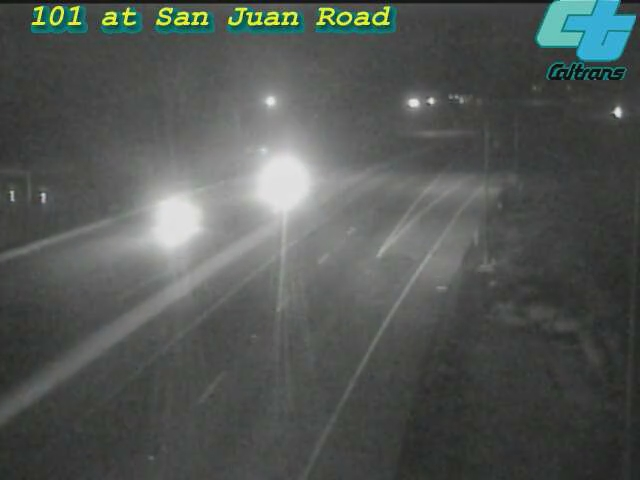vehicle: (138, 178, 218, 258), (242, 141, 322, 221), (590, 87, 640, 137)
